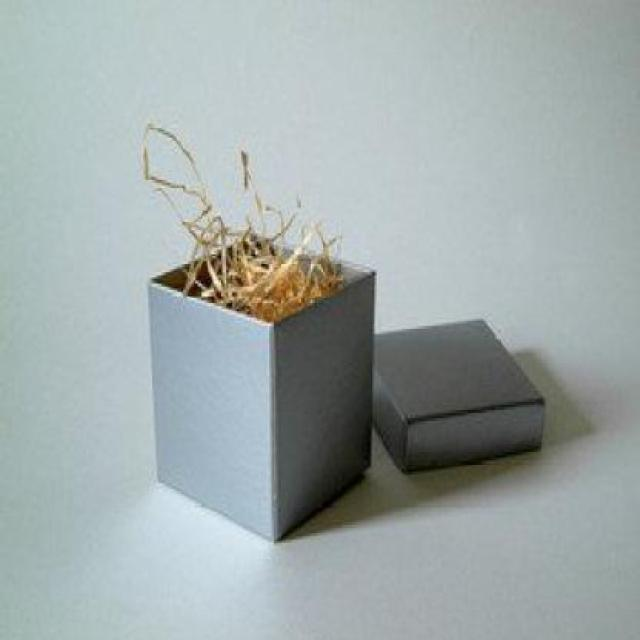box: (130, 236, 562, 544)
